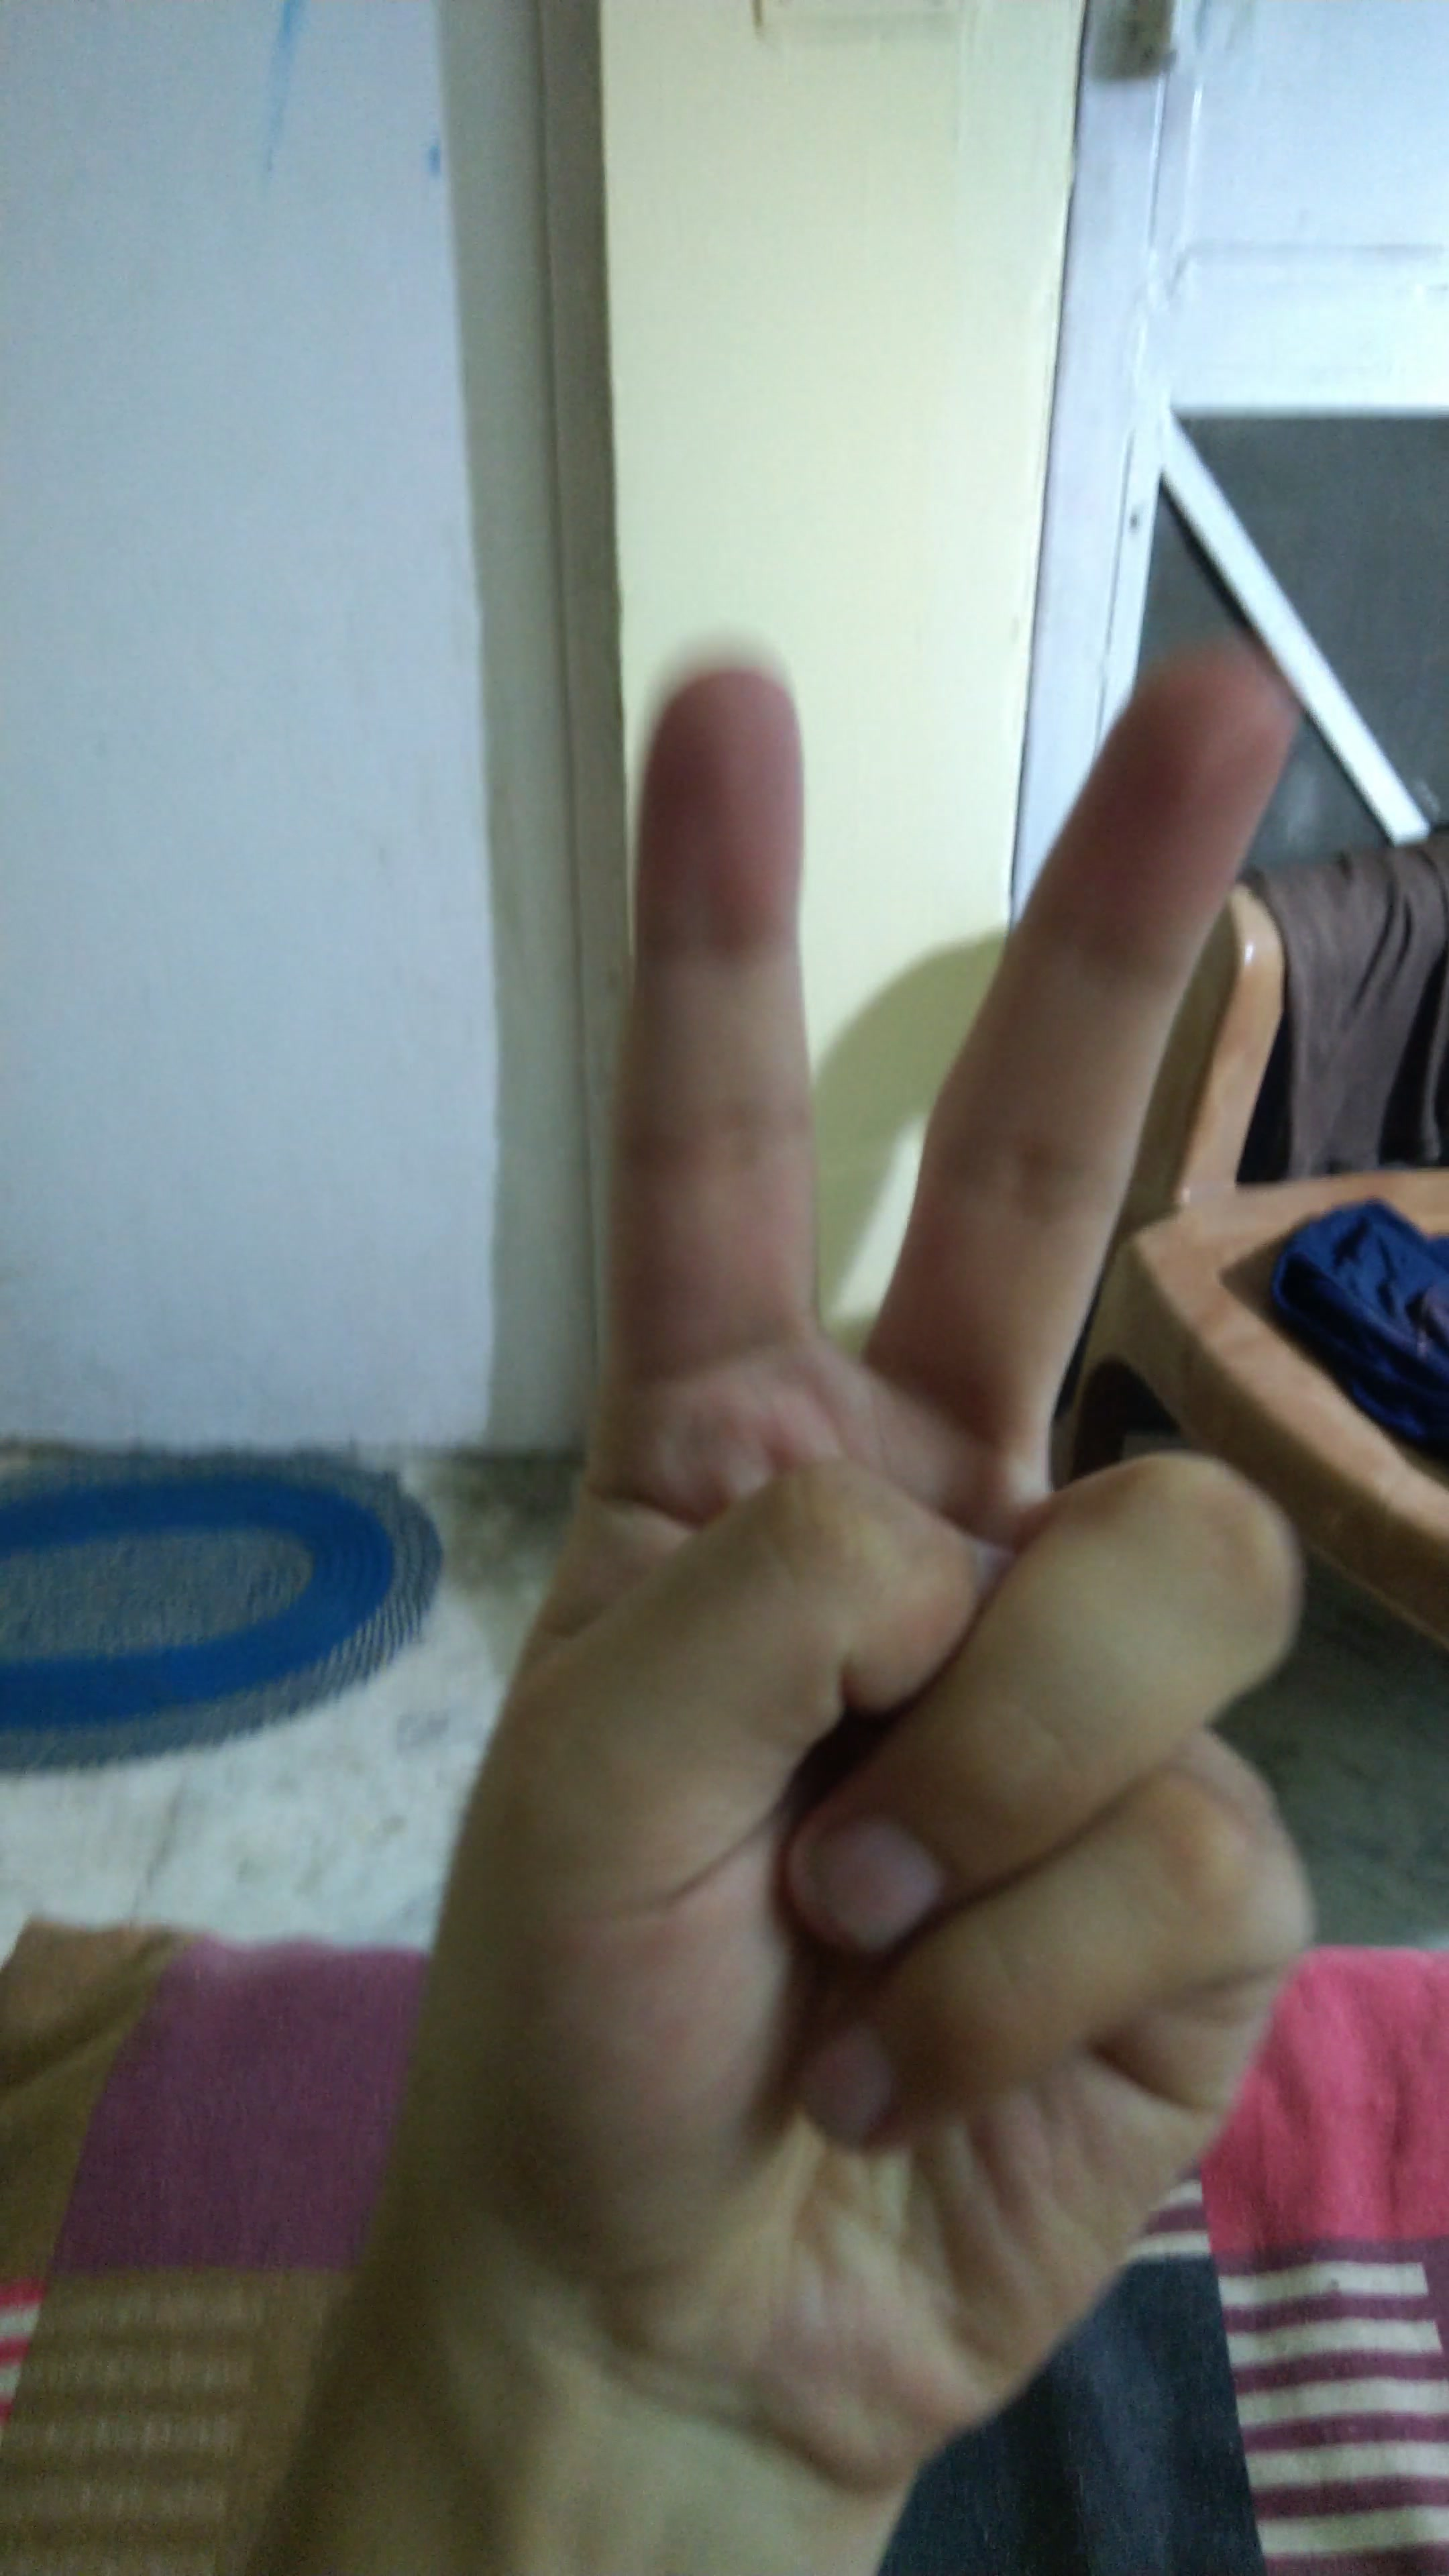hand: (349, 609, 1405, 2495)
